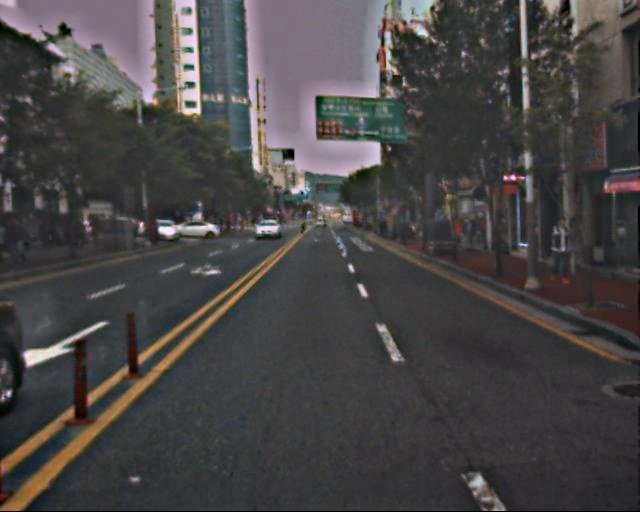person: (542, 212, 576, 287), (461, 213, 481, 256)
